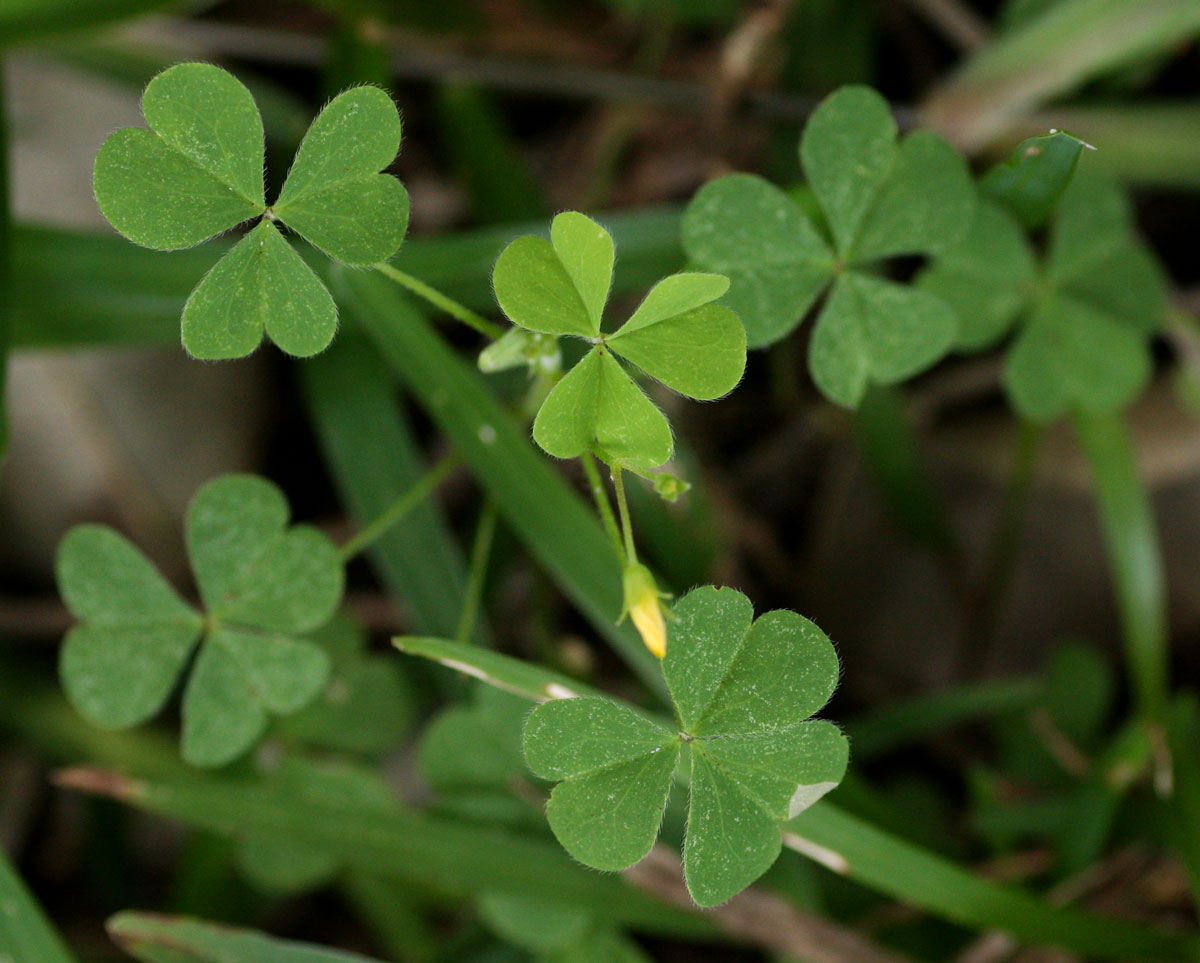oxalis: (84, 62, 484, 411), (528, 594, 888, 898), (717, 86, 1042, 403), (49, 480, 360, 748), (504, 205, 756, 498)
